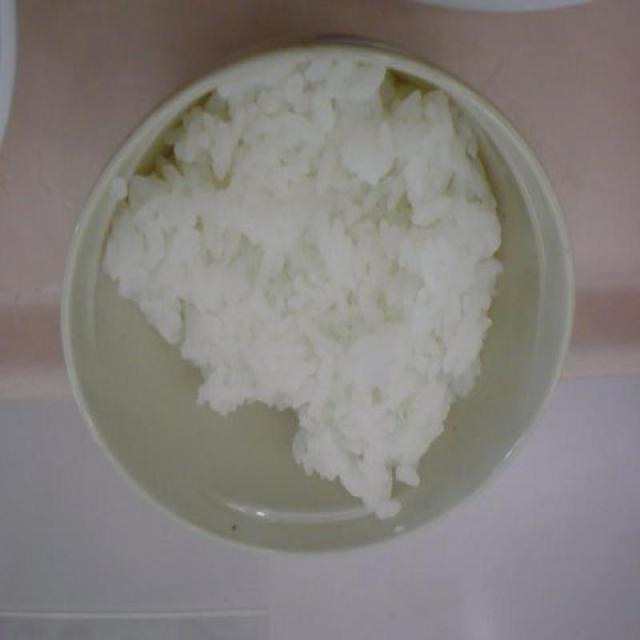nasi_putih: (101, 58, 502, 524)
